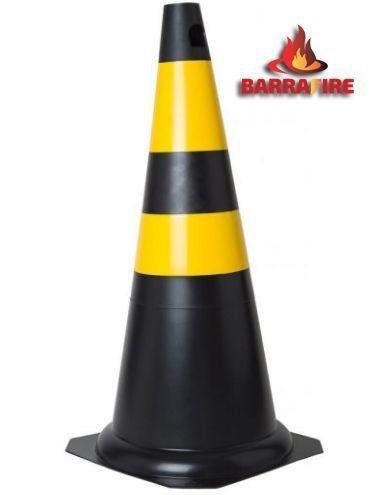traffic cone: (94, 1, 294, 489)
